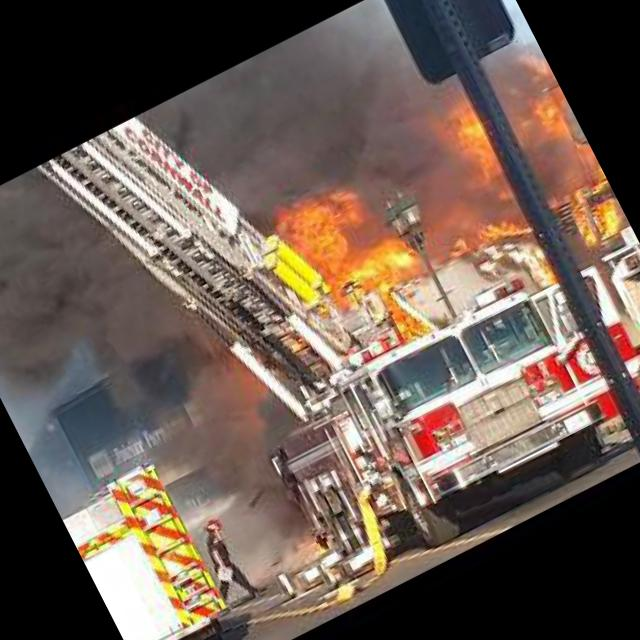fire: (236, 50, 630, 378)
smoke: (128, 332, 330, 592)
